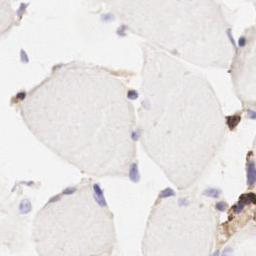nucleus: (92, 183, 108, 208), (128, 161, 141, 185), (15, 3, 31, 19), (247, 162, 256, 187), (19, 200, 33, 214), (227, 32, 236, 50), (160, 187, 176, 197), (214, 201, 230, 211), (205, 189, 225, 197), (19, 49, 29, 64), (116, 25, 128, 37), (99, 14, 116, 21), (49, 194, 62, 203), (127, 90, 138, 100), (247, 109, 256, 120), (63, 187, 77, 194), (179, 198, 190, 206), (238, 37, 246, 47), (223, 249, 234, 256), (20, 181, 34, 186), (132, 133, 141, 140), (237, 204, 243, 214), (212, 250, 218, 256), (20, 92, 26, 97)
positive_cell: (233, 194, 249, 221), (247, 152, 256, 186), (10, 91, 27, 106)
